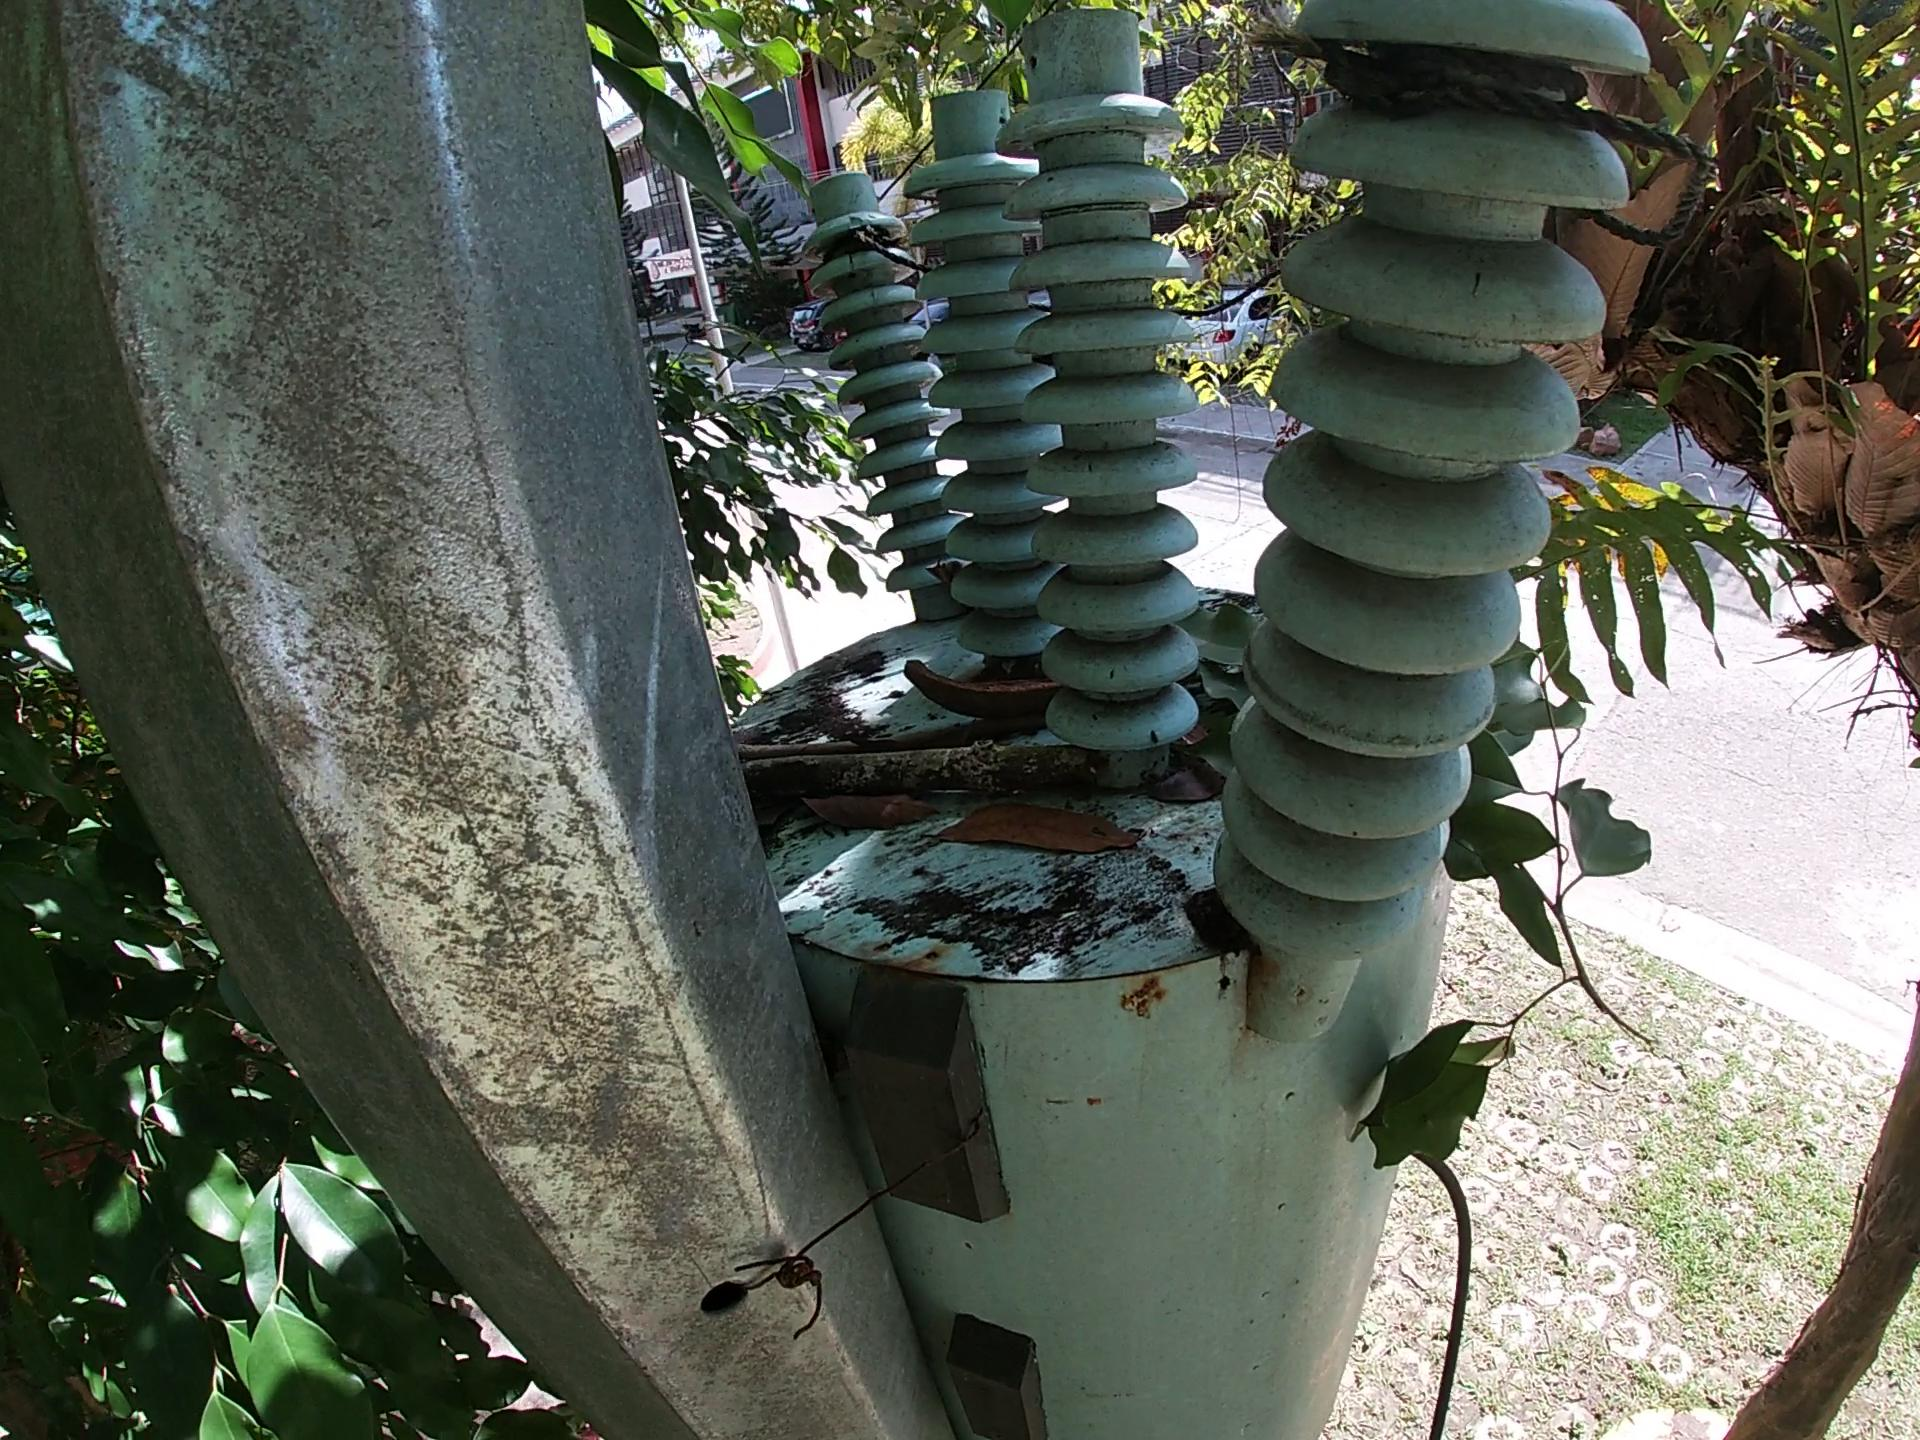branch with leaves: (1358, 646, 1658, 1201)
leaf: (921, 802, 1150, 858), (1187, 591, 1252, 765), (795, 796, 915, 832)
mahogany fruit: (898, 659, 1058, 725)
tree branch: (739, 755, 1098, 793), (724, 729, 930, 749)
